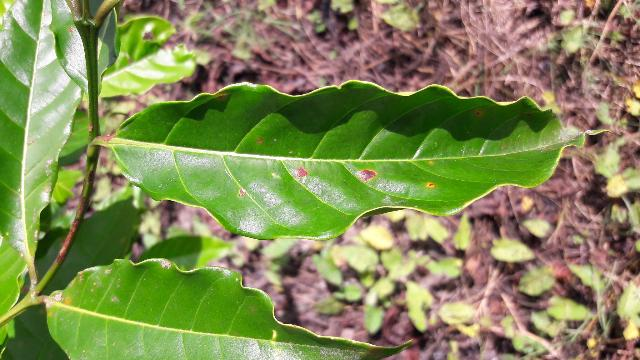red_spider_mite: (108, 84, 574, 238)
